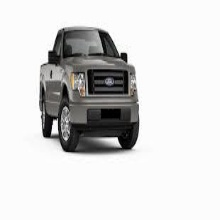no damage: (38, 26, 141, 153)
